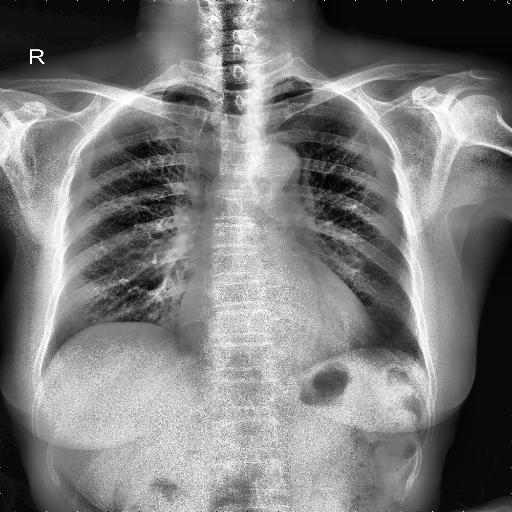0- Aortic enlargement: (251, 144, 302, 200), (243, 142, 301, 190), (254, 142, 294, 184)
11- Pleural thickening: (262, 75, 289, 95)
3- Cardiomegaly: (176, 297, 381, 359)
